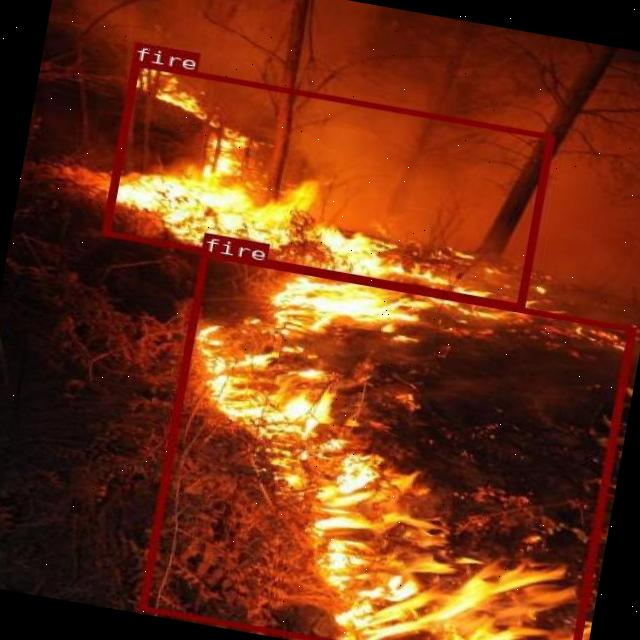fire: (137, 250, 634, 640), (101, 59, 554, 308)
